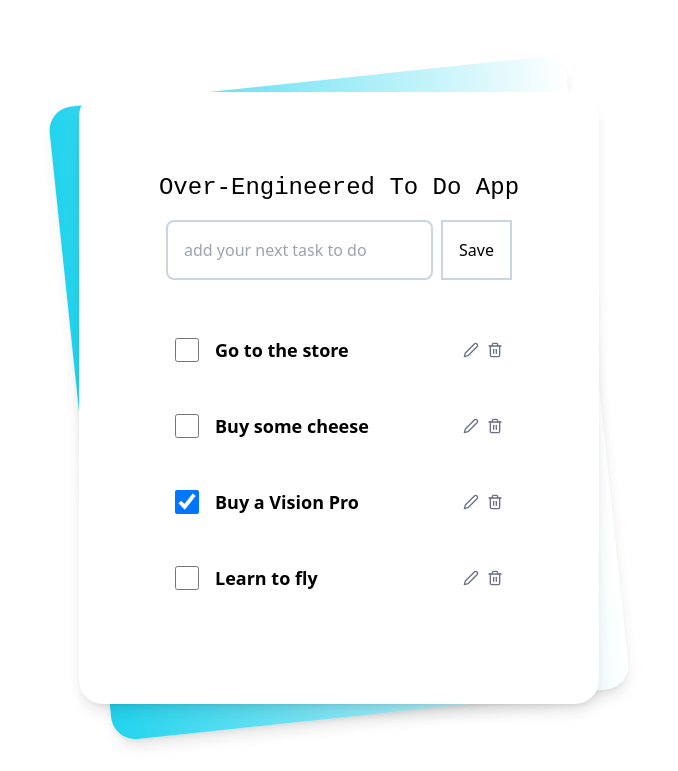
Test: Task › when cancel is clicked, title reverts to original title
Check: the label with test id "task-title" reads "Go to the store", box [215,338,349,362]
Step 1. Click the button named "Edit Go to the store" → (471, 350), box [463,342,479,358]
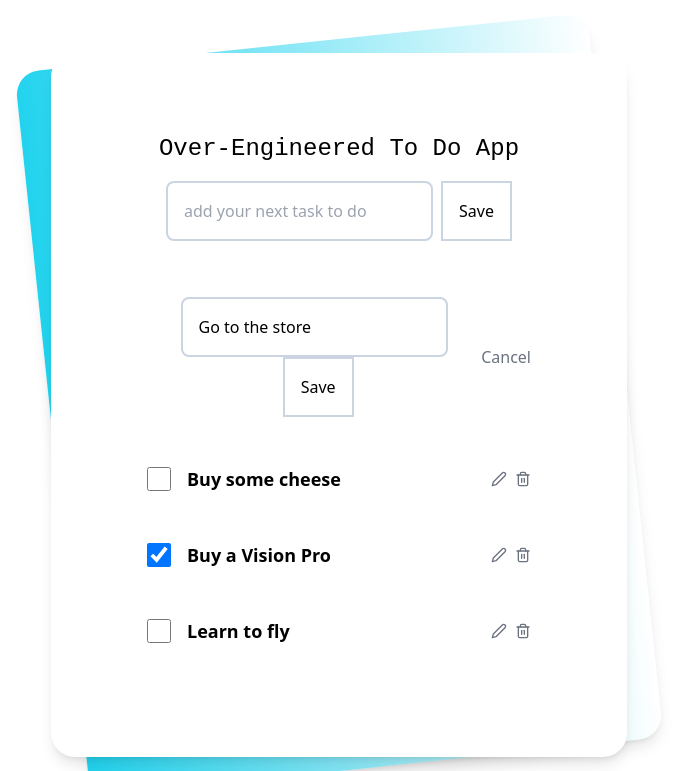
Check: the button "Cancel" is shown, box [481,345,531,369]
Step 2. Replace the text in the field named "Task Input" with "Do not go to the store" → (314, 327), box [181,297,448,357]
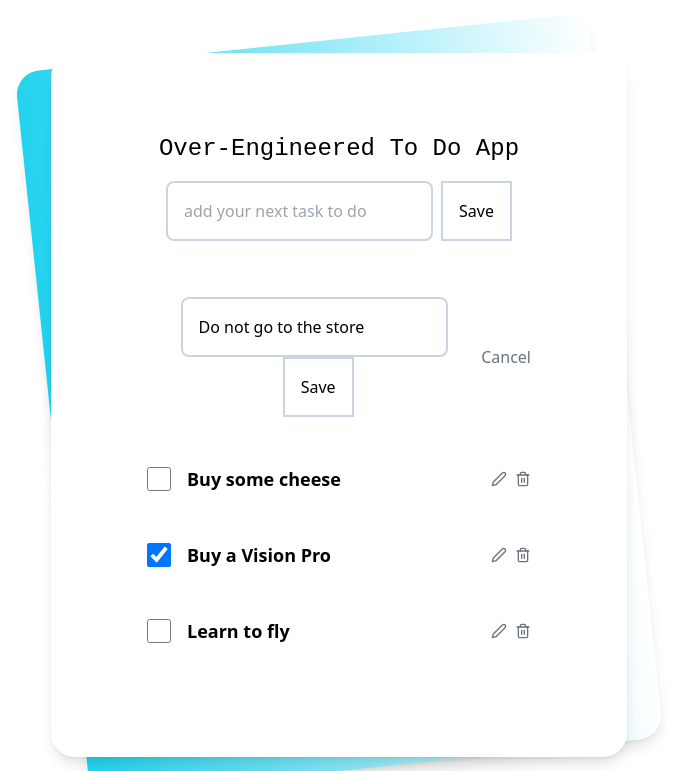
Step 3. Click the button "Cancel" → (506, 357), box [481,345,531,369]
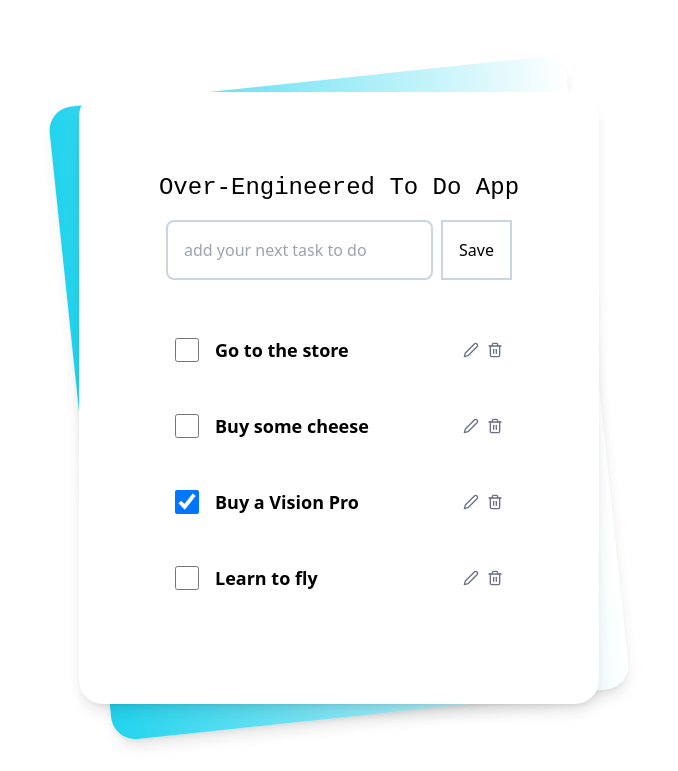
Check: the label with test id "task-title" reads "Go to the store", box [215,338,349,362]
